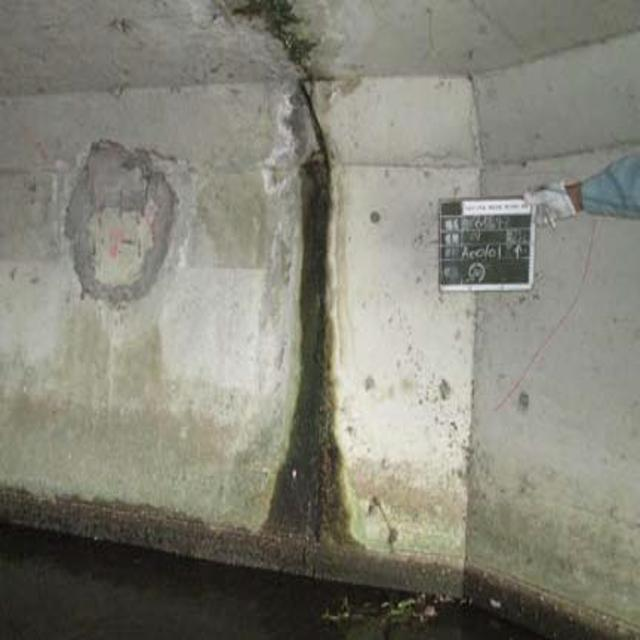leakage: (220, 16, 371, 560)
